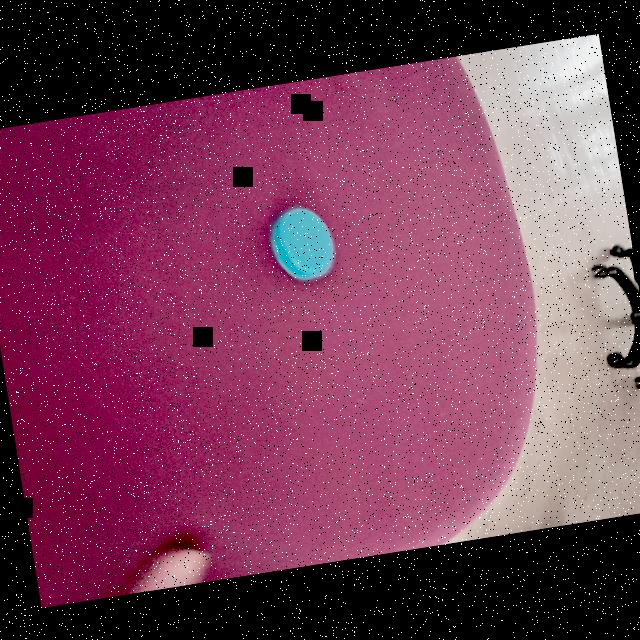plastic_bottle_cap: (261, 195, 345, 294)
